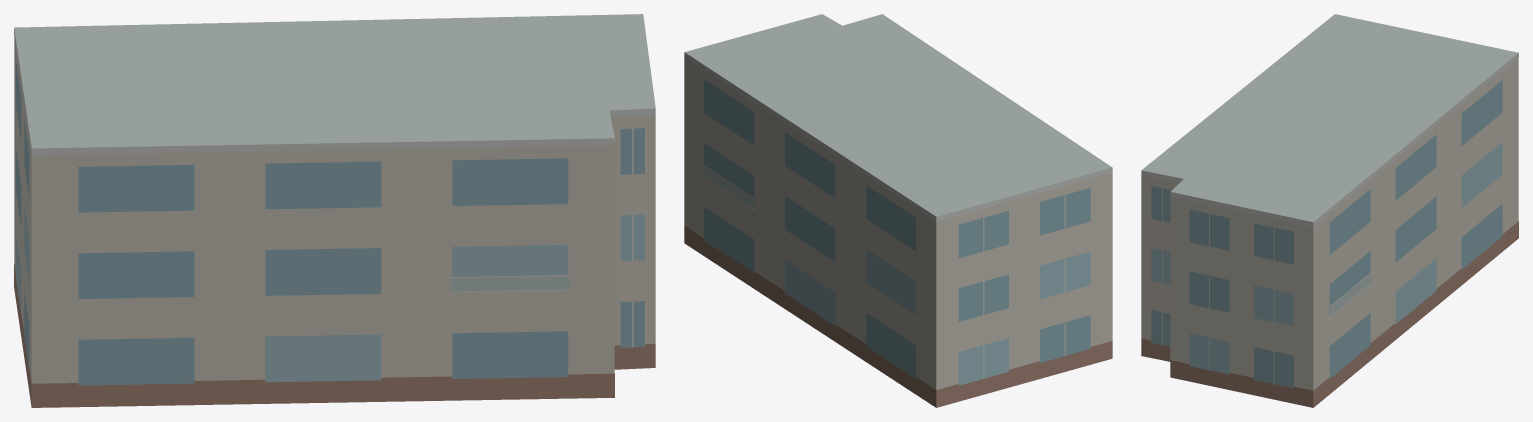
The model's file is survey-upis-32912320.glb.
The picture shows the model from 3 angles, left to right: view 1: azimuth 30°, elevation 25°; view 2: azimuth 150°, elevation 25°; view 3: azimuth 270°, elevation 25°; orthographic projection. The views are drawn at different scales.
Visible parts, largest first — view 1: survey-upis-32912320.tmp; view 2: survey-upis-32912320.tmp; view 3: survey-upis-32912320.tmp.
Part boxes in pixels (<box>): survey-upis-32912320.tmp: <box>14,14,655,407</box>; survey-upis-32912320.tmp: <box>684,14,1112,407</box>; survey-upis-32912320.tmp: <box>1141,14,1518,407</box>.
Bounding box in the file's own units: 22.02 × 9.15 × 16.87.
